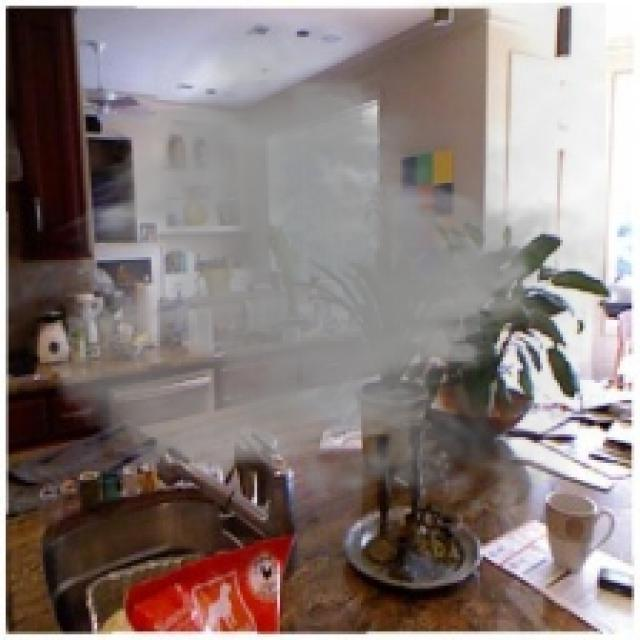Smoke: (43, 2, 606, 534)
